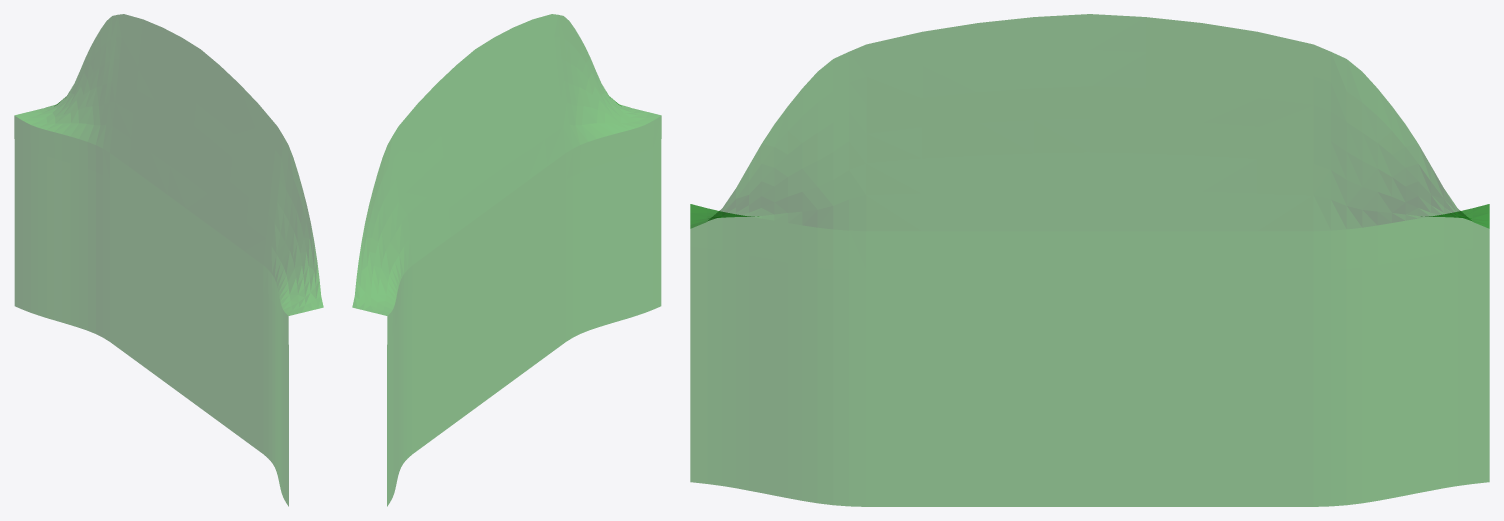
Rendered from Road_E2.obj.
3 renders of one model, left to right at view 1: azimuth 30°, elevation 25°; view 2: azimuth 150°, elevation 25°; view 3: azimuth 270°, elevation 25°, orthographic. The views are drawn at different scales.
Bounding box in the file's own units: 12.47 × 83.37 × 120.
